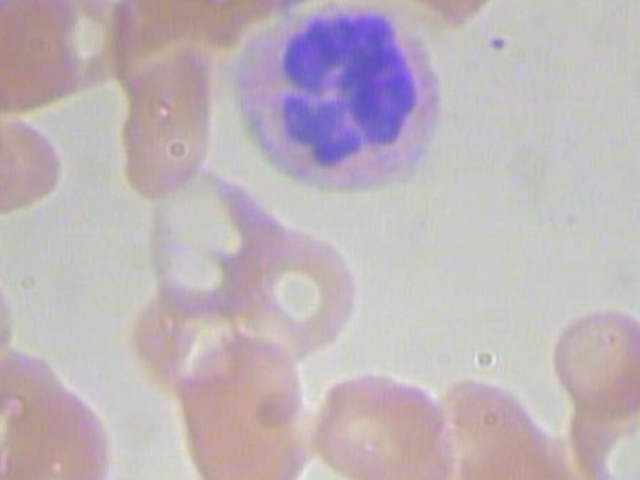RBC: (168, 335, 323, 480), (307, 360, 466, 480), (100, 48, 217, 201), (241, 230, 357, 354), (546, 298, 640, 417), (0, 339, 73, 480), (559, 377, 640, 480)
WBC: (218, 0, 469, 204)
